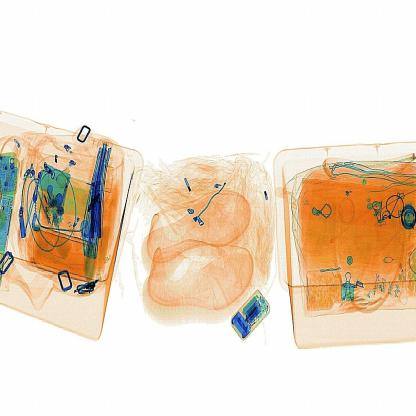pliers: (86, 168, 111, 244)
